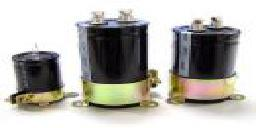Electrolytic Capacitor: (75, 5, 165, 128), (170, 8, 244, 116), (6, 39, 69, 111)
